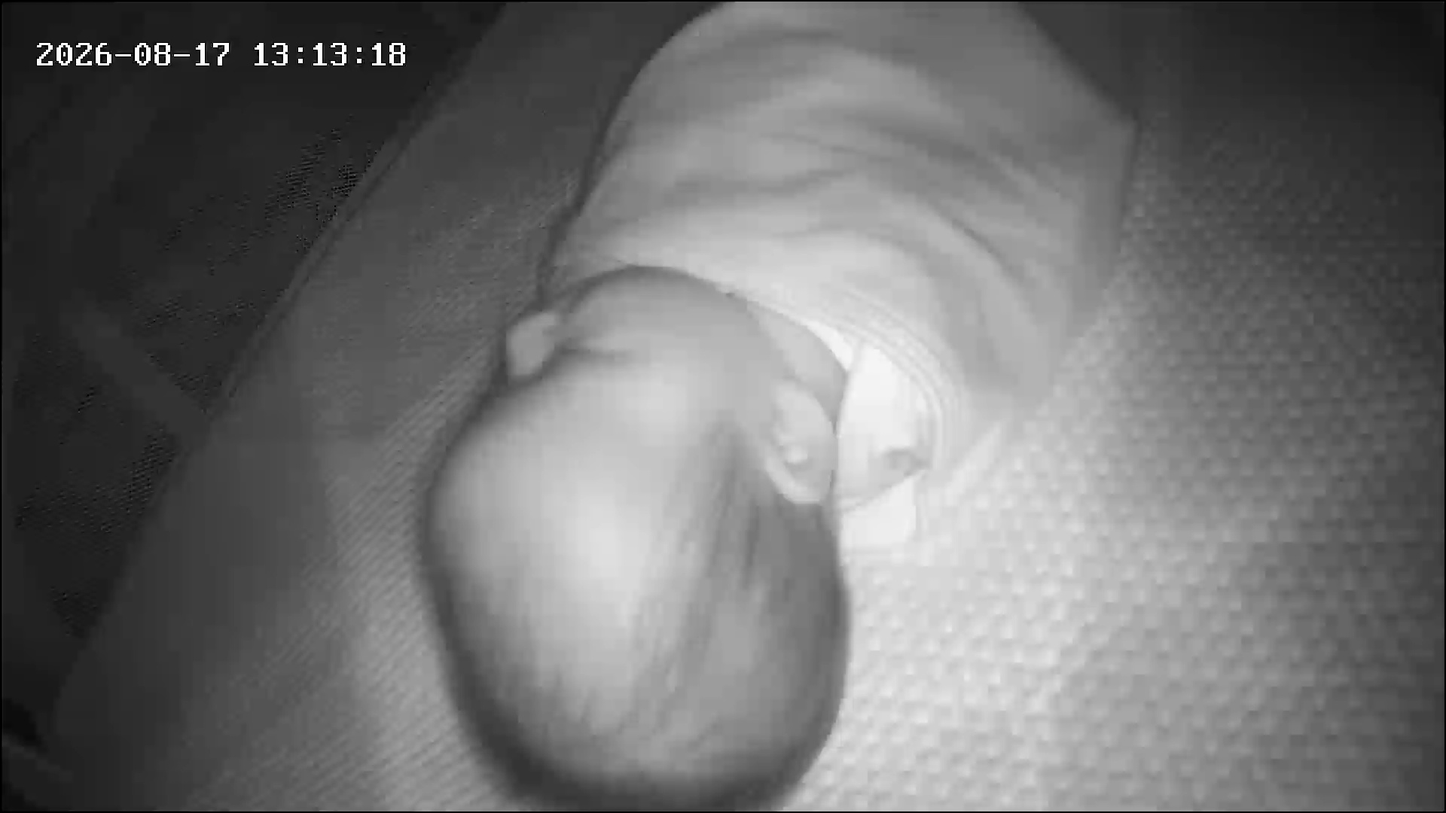baby: (0, 4, 916, 810), (401, 0, 1143, 806)
baby_face: (412, 256, 873, 809)
